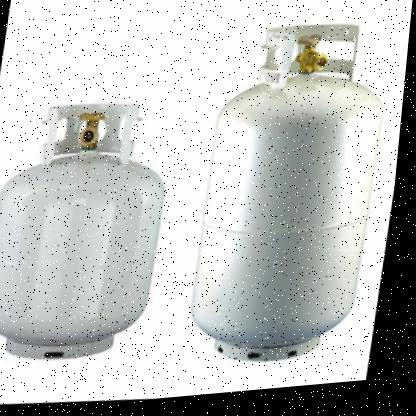gas-tank: (178, 8, 405, 379), (0, 79, 192, 386)
